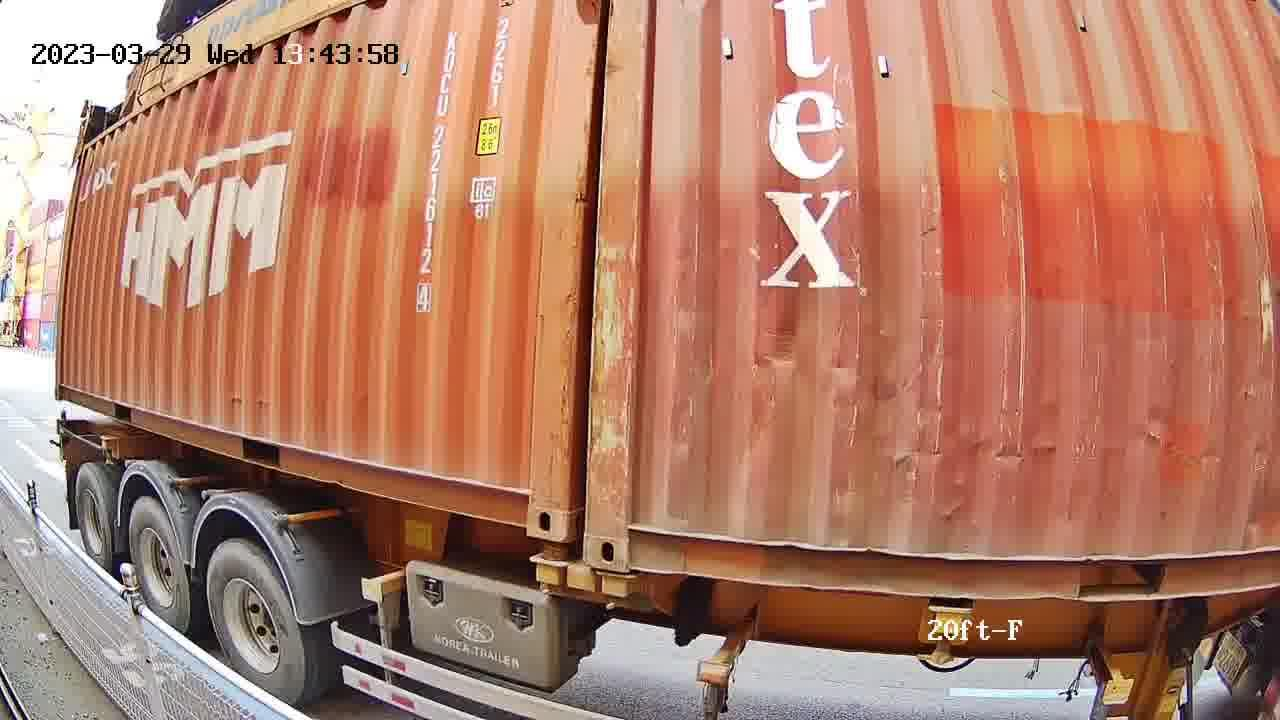Cone: (529, 542, 575, 594), (594, 572, 631, 616)
Hole_L: (587, 488, 688, 575)
Hole_R: (485, 449, 570, 545)
Tire: (205, 541, 305, 713), (131, 501, 189, 636), (77, 466, 113, 575)
